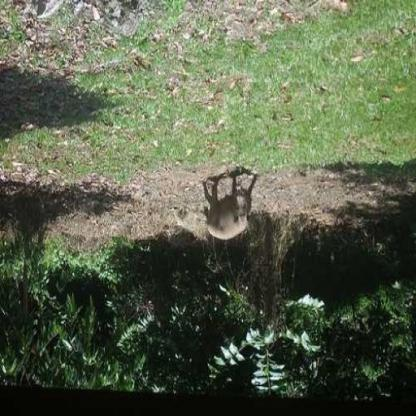boar: (189, 155, 268, 245)
